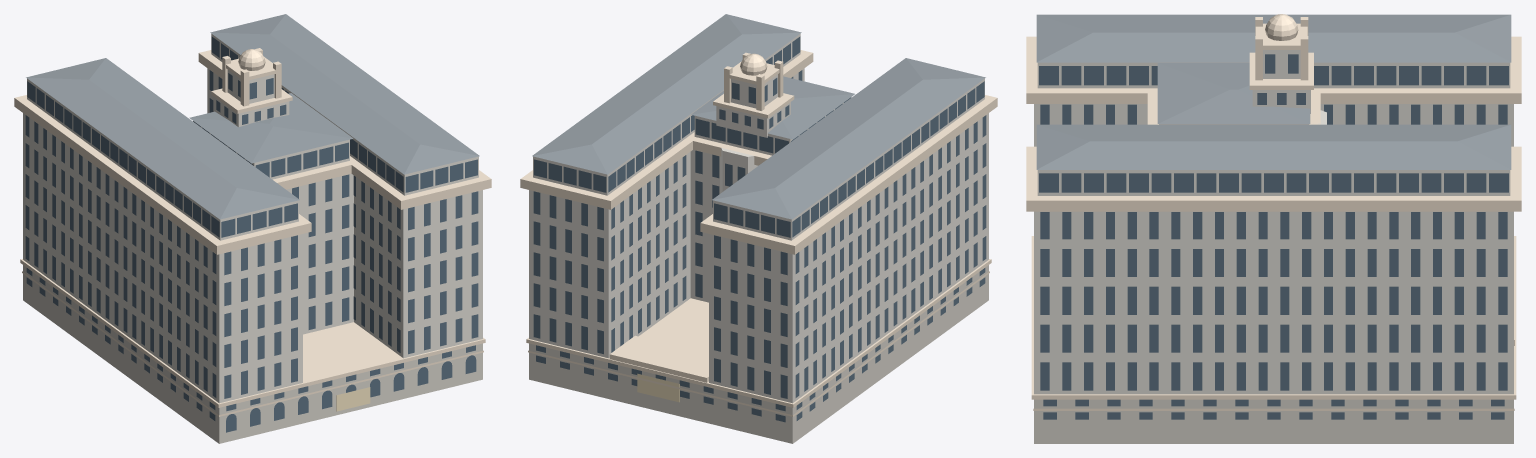
The model's file is slc-joseph-smith-memorial-building.glb.
The picture shows the model from 3 angles, left to right: view 1: azimuth 30°, elevation 25°; view 2: azimuth 150°, elevation 25°; view 3: azimuth 270°, elevation 25°; orthographic projection. The views are drawn at different scales.
Parts seen in each view (by area): view 1: Joseph Smith Memorial Building; view 2: Joseph Smith Memorial Building; view 3: Joseph Smith Memorial Building.
Boxes of the visible parts, <box> form: Joseph Smith Memorial Building: <box>14,14,491,443</box>; Joseph Smith Memorial Building: <box>520,14,997,443</box>; Joseph Smith Memorial Building: <box>1026,14,1521,443</box>.
Size of the model in its own units: 65 by 65 by 83.
